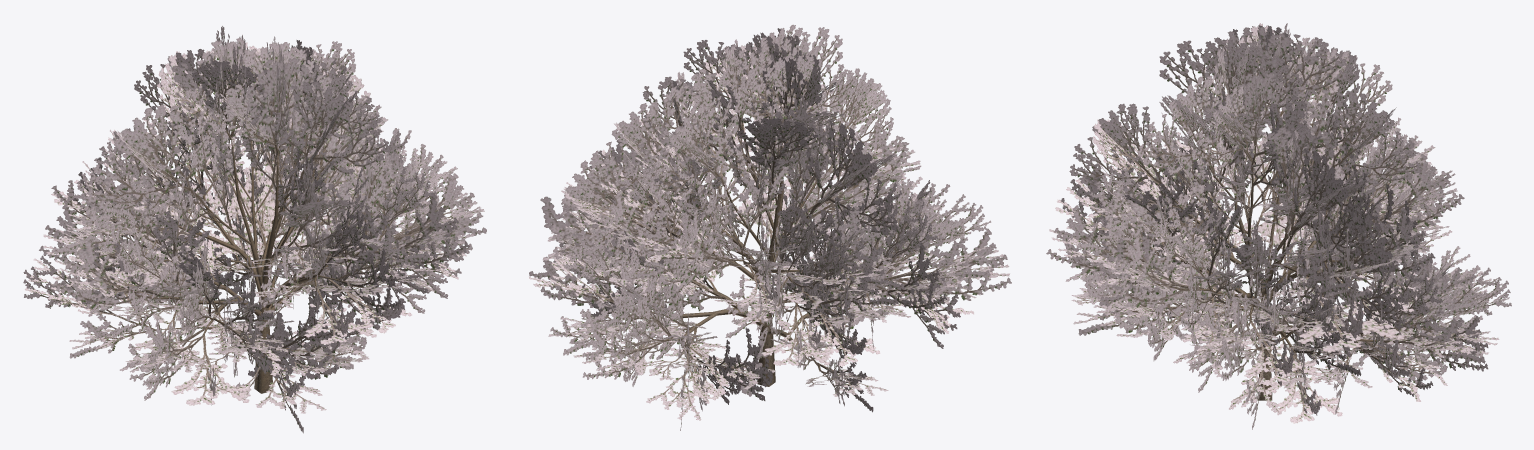
File: CornusFlorida.glb
3 renders of one model, left to right at view 1: azimuth 30°, elevation 25°; view 2: azimuth 150°, elevation 25°; view 3: azimuth 270°, elevation 25°, orthographic. The views are drawn at different scales.
Visible parts, largest first — view 1: Flowering_Dogwood__Realistic_LOD3; view 2: Flowering_Dogwood__Realistic_LOD3; view 3: Flowering_Dogwood__Realistic_LOD3.
Boxes of the visible parts, x1,y1,x2,y2 form: Flowering_Dogwood__Realistic_LOD3: (23,26,486,433); Flowering_Dogwood__Realistic_LOD3: (529,24,1011,430); Flowering_Dogwood__Realistic_LOD3: (1046,23,1511,429).
Size of the model in its own units: 7.06 by 5.8 by 6.89.
1 material, 1 textured.
